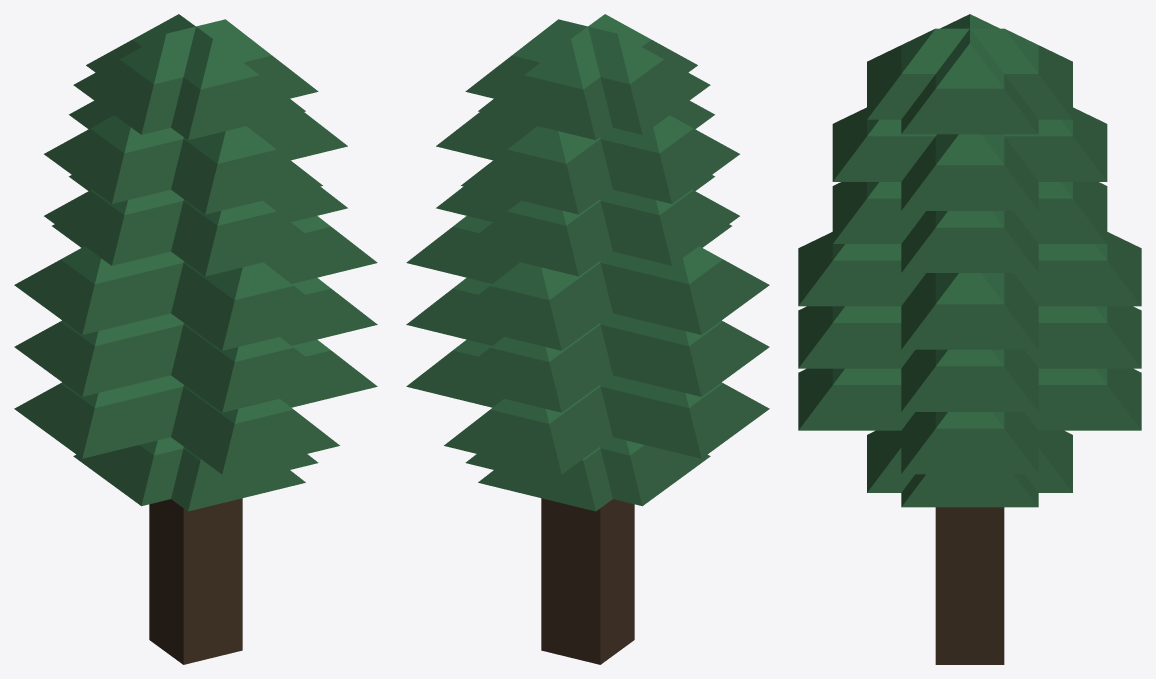
File: mixed_tree_2.glb
3 renders of one model, left to right at view 1: azimuth 30°, elevation 25°; view 2: azimuth 150°, elevation 25°; view 3: azimuth 270°, elevation 25°, orthographic.
Visible parts, largest first — view 1: voxel_2a5536_matte, voxel_316842_matte, voxel_4a3828_matte; view 2: voxel_2a5536_matte, voxel_316842_matte, voxel_4a3828_matte; view 3: voxel_2a5536_matte, voxel_316842_matte, voxel_4a3828_matte.
Boxes of the visible parts, x1=… form: voxel_2a5536_matte: x1=14, y1=39, x2=377, y2=511; voxel_316842_matte: x1=61, y1=14, x2=330, y2=460; voxel_4a3828_matte: x1=149, y1=498, x2=242, y2=664; voxel_2a5536_matte: x1=406, y1=39, x2=769, y2=511; voxel_316842_matte: x1=453, y1=14, x2=722, y2=460; voxel_4a3828_matte: x1=541, y1=498, x2=634, y2=664; voxel_2a5536_matte: x1=798, y1=45, x2=1141, y2=507; voxel_316842_matte: x1=832, y1=14, x2=1107, y2=428; voxel_4a3828_matte: x1=935, y1=507, x2=1004, y2=664.
Bounding box in the file's own units: 6 × 12 × 6.
